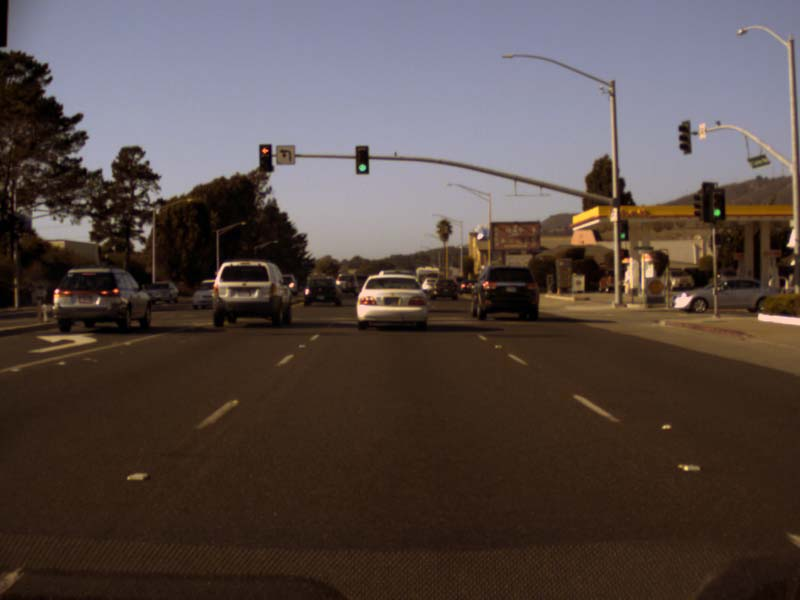Green: (708, 188, 724, 219), (354, 144, 368, 173), (617, 219, 628, 240)
Red: (258, 143, 272, 172)
